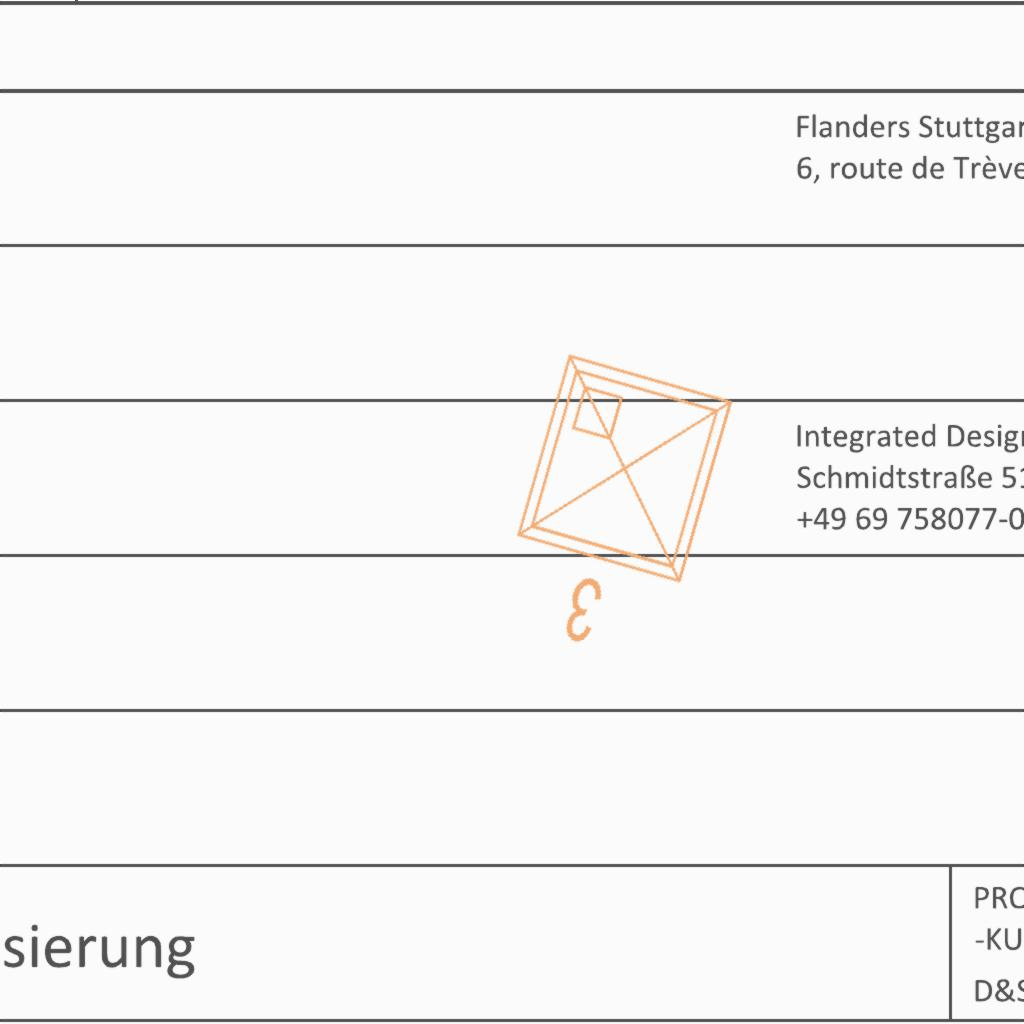Einbaudownlights_LED_Konferenzraeume: (475, 336, 759, 682)
